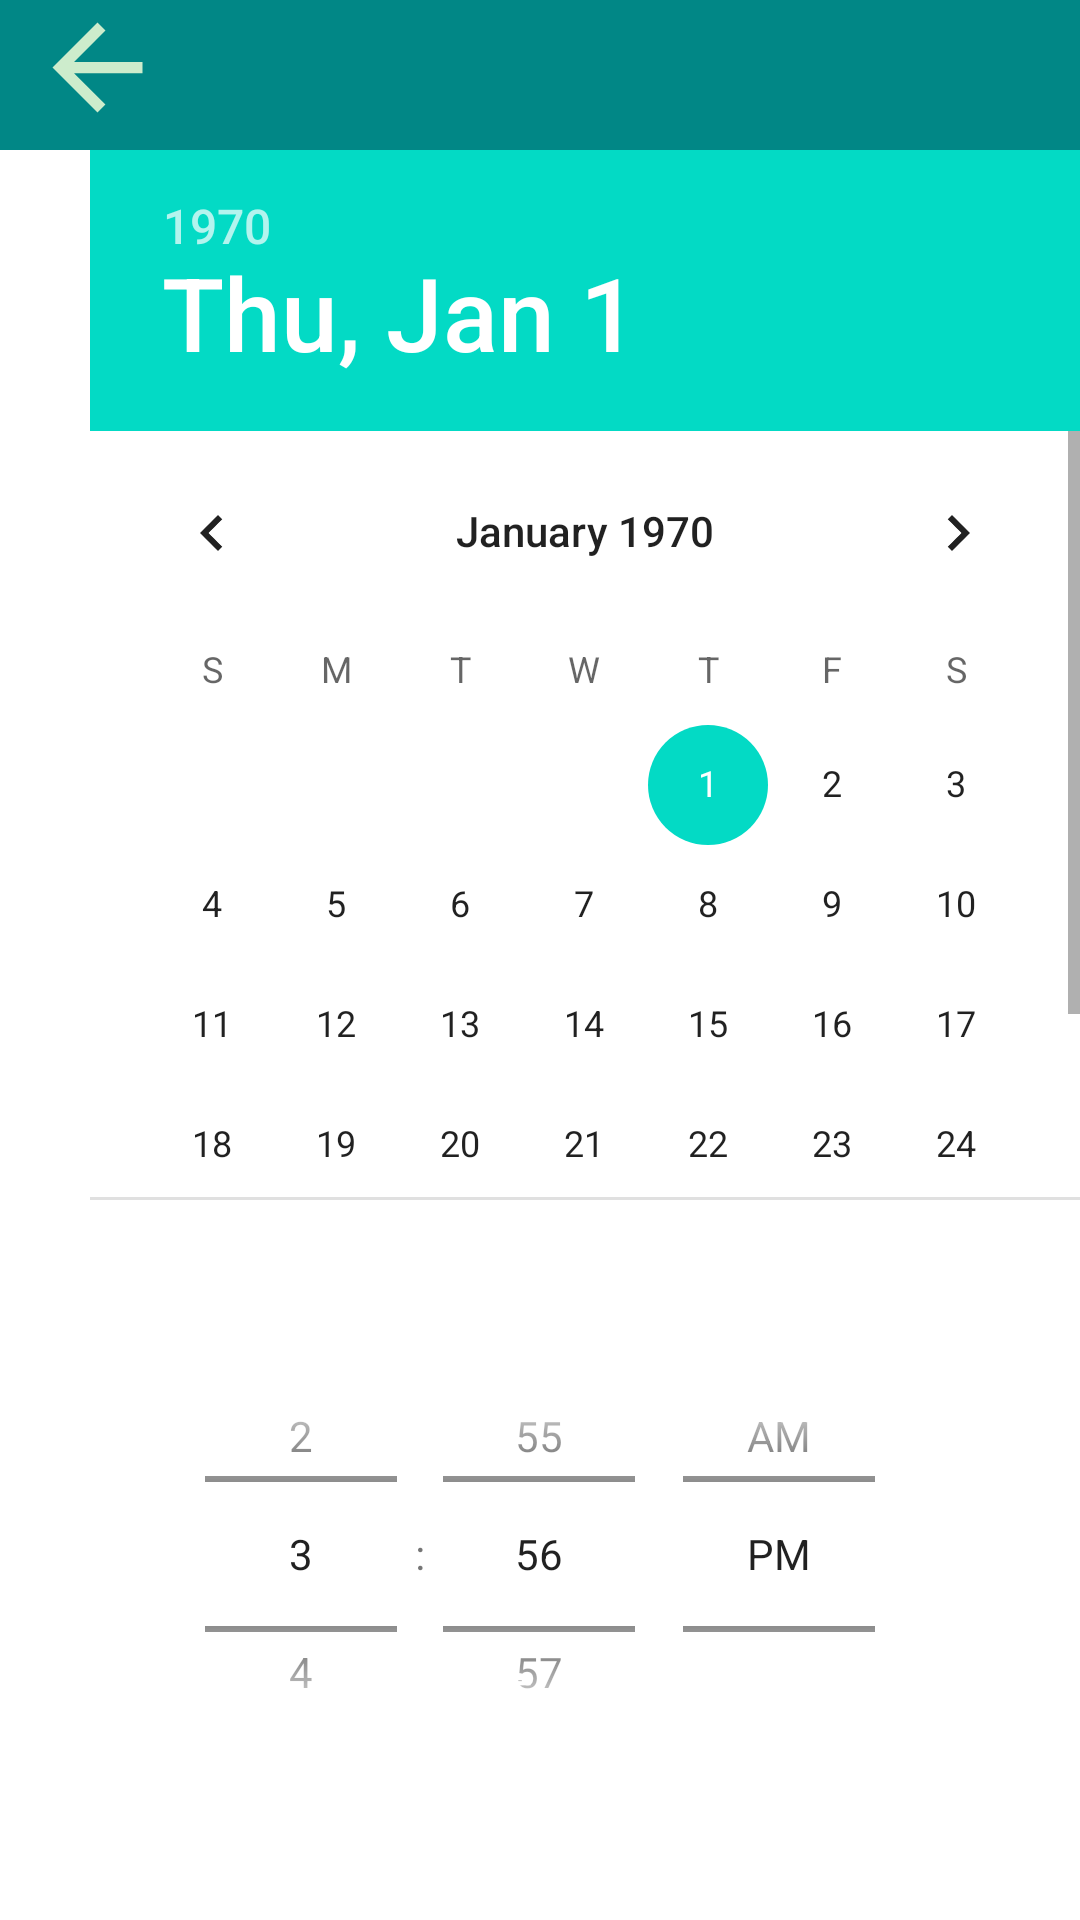

Locate icon controls on the screen. Image size 1080 × 1920, boxes as (x1, y1, x2, y2).
backbutton: (52, 22, 143, 113)
